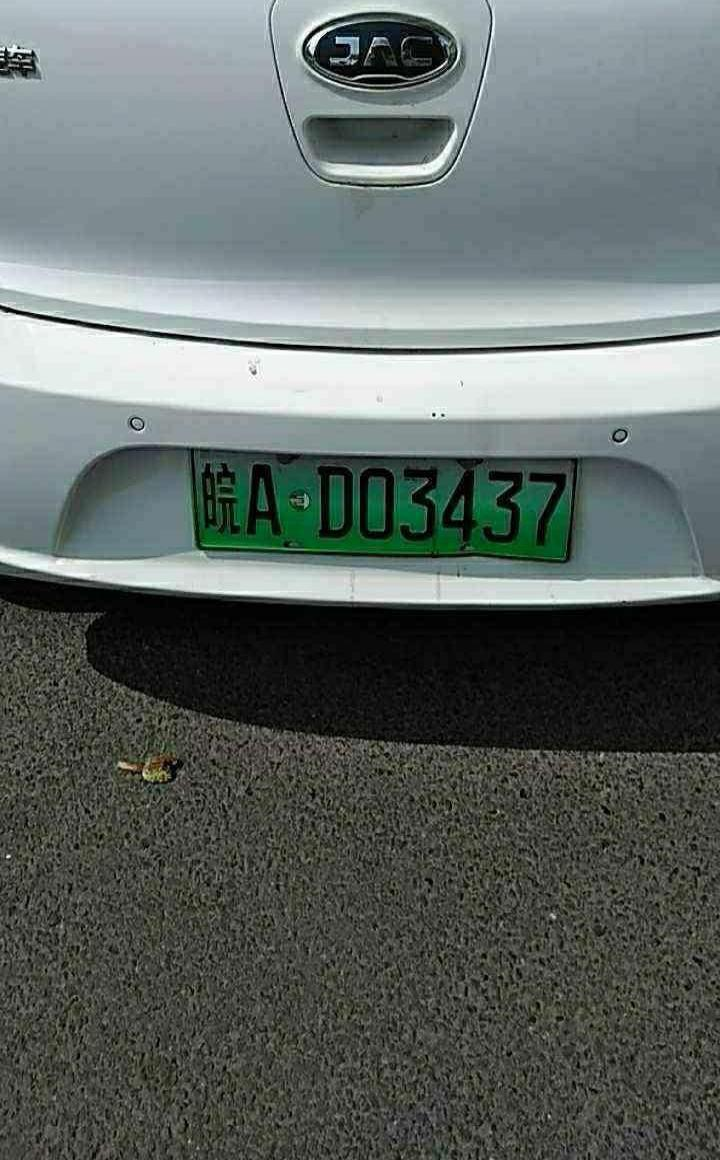car_id: (189, 446, 577, 560)
